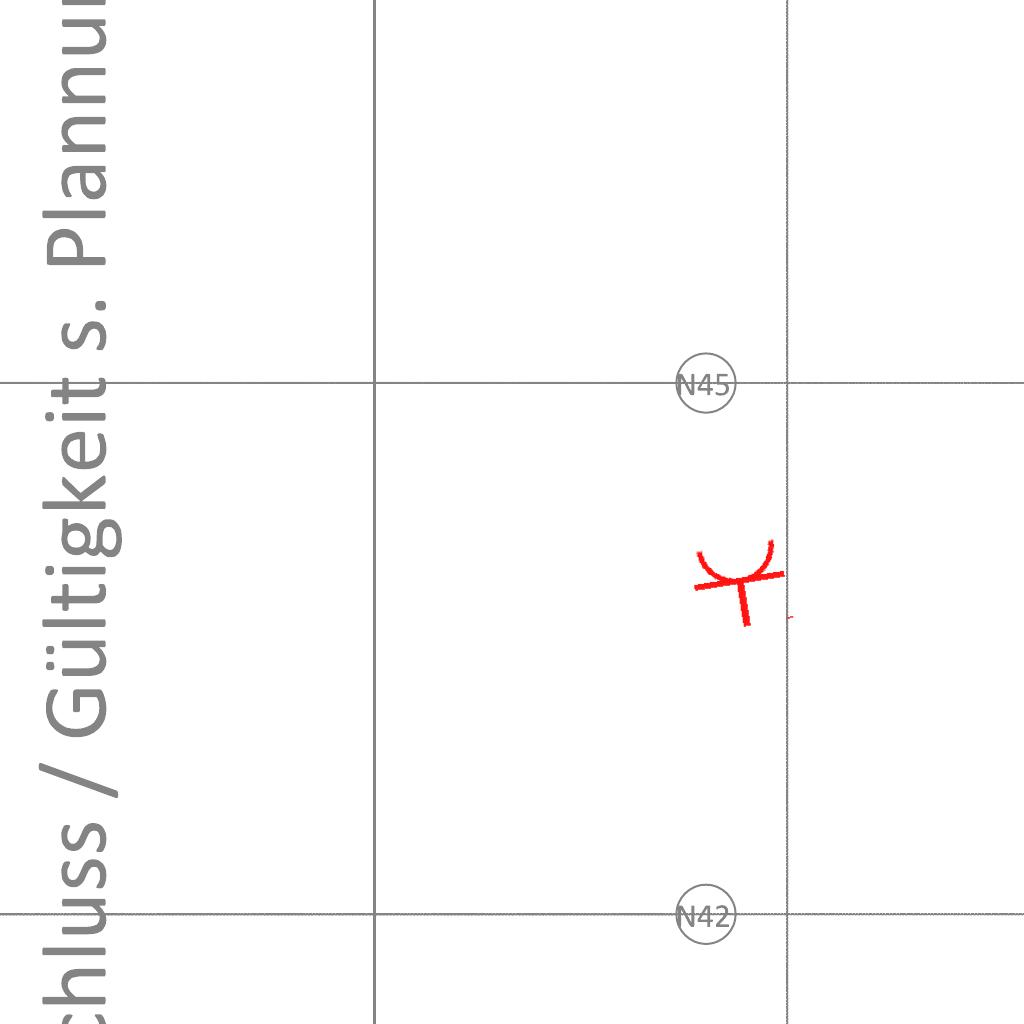Schukosteckdose_einfach: (686, 534, 799, 636)
